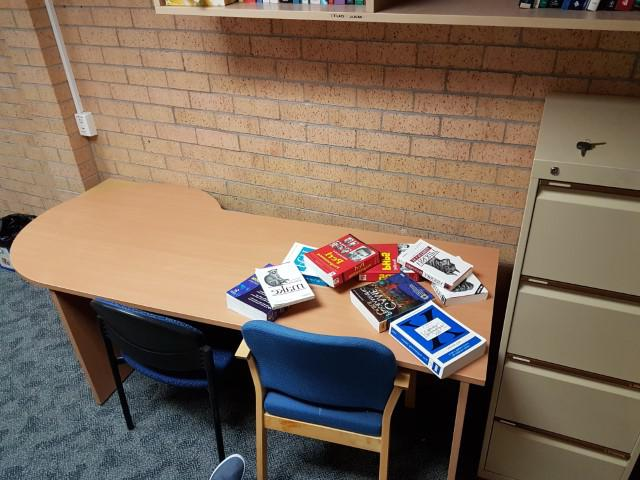key: (577, 141, 591, 157)
